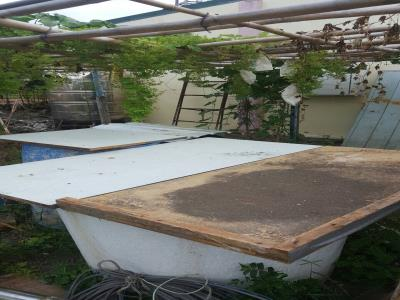water_tower: (42, 61, 125, 122)
